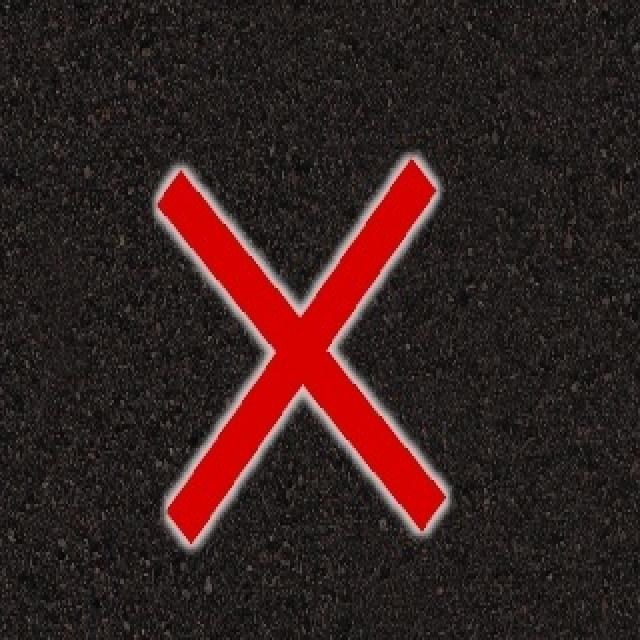x_marker: (157, 158, 445, 542)
